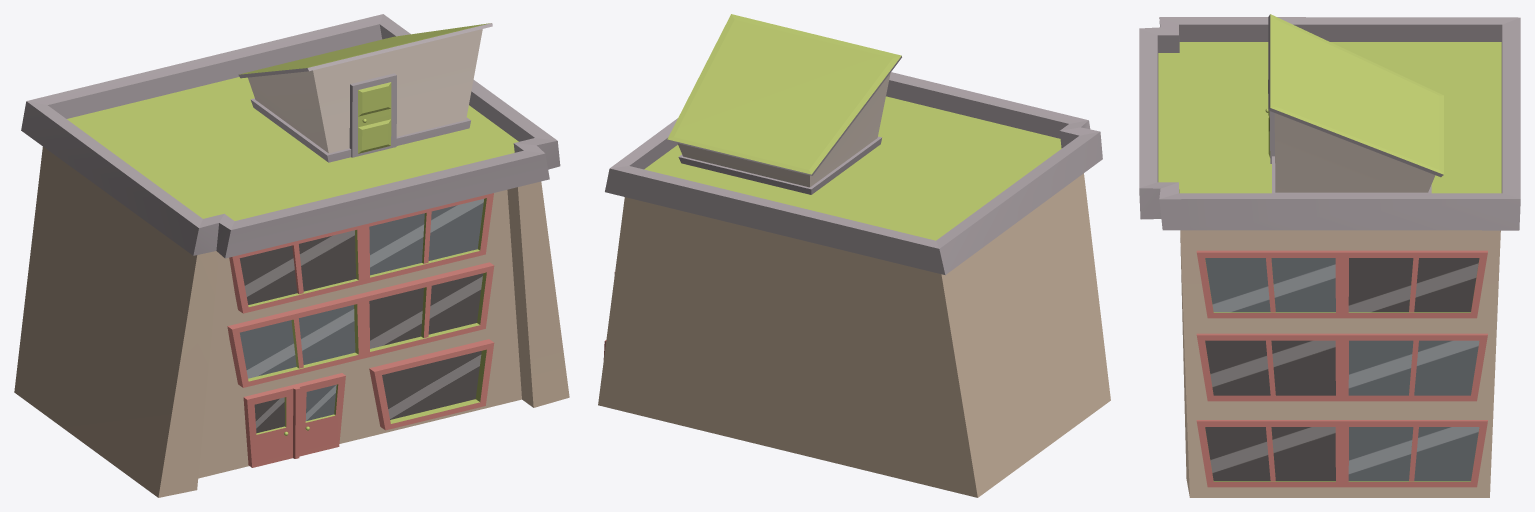
Rendered from House2.FBX.
3 renders of one model, left to right at view 1: azimuth 30°, elevation 25°; view 2: azimuth 150°, elevation 25°; view 3: azimuth 270°, elevation 25°, orthographic. The views are drawn at different scales.
Parts seen in each view (by area): view 1: House2; view 2: House2; view 3: House2.
Boxes of the visible parts, <box> form: House2: <box>14,14,569,497</box>; House2: <box>598,14,1110,497</box>; House2: <box>1139,14,1520,497</box>.
Bounding box in the file's own units: 469 × 386 × 361.
